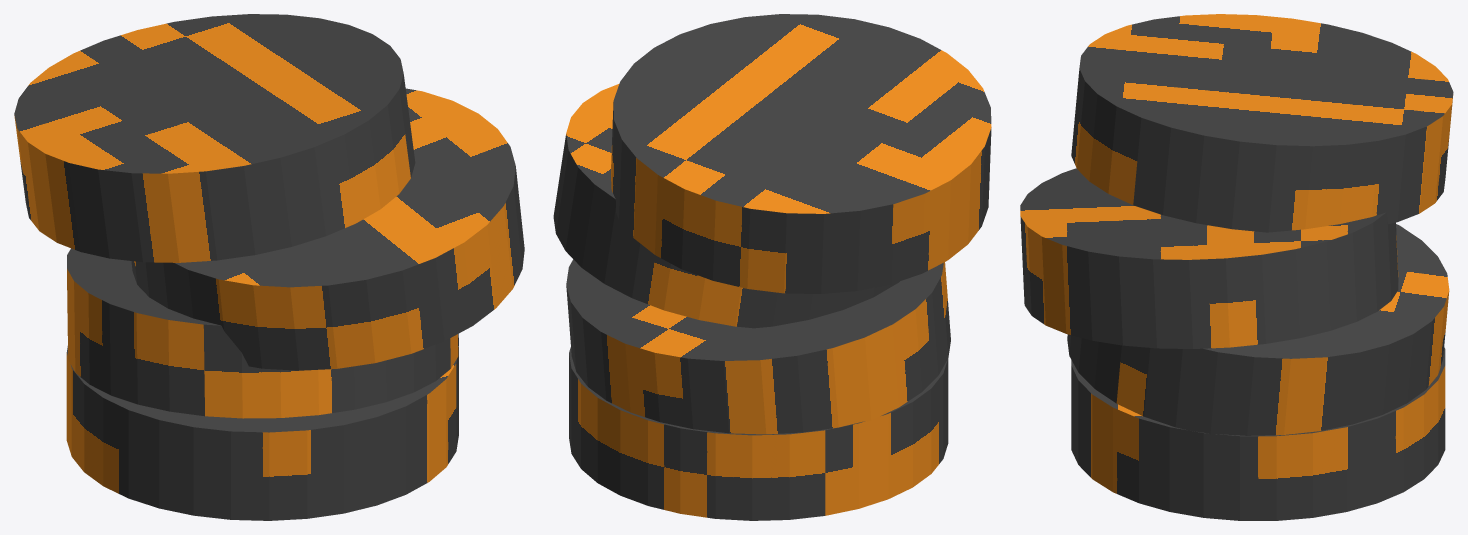
File: Vehicleular Trash.obj
3 views of the same model, side by side, from view 1: azimuth 30°, elevation 25°; view 2: azimuth 150°, elevation 25°; view 3: azimuth 270°, elevation 25° (orthographic). The views are drawn at different scales.
Visible parts, largest first — view 1: cylinder; view 2: cylinder; view 3: cylinder.
Part boxes in pixels (box(x1,y1,x2,y2)): cylinder: box(14, 14, 524, 520); cylinder: box(553, 14, 991, 520); cylinder: box(1020, 14, 1453, 520).
Size of the model in its own units: 0.6338 by 0.5299 by 0.5785.
1 material, 1 textured.
